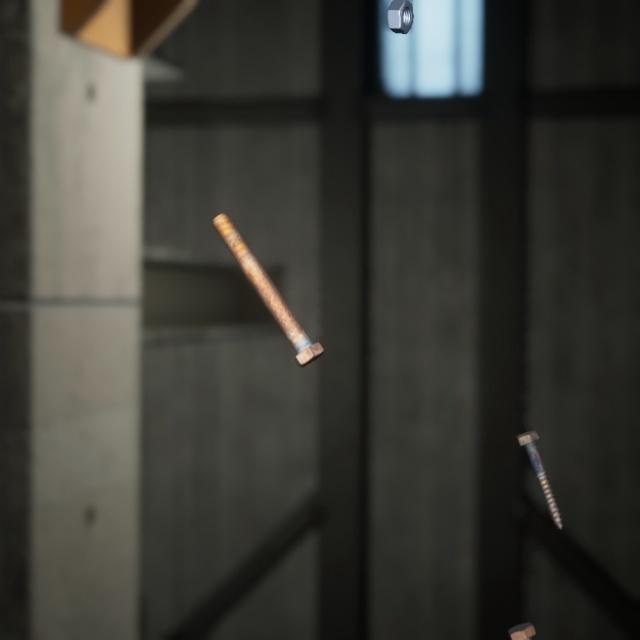bolt: (207, 191, 328, 354), (511, 404, 567, 512), (502, 593, 545, 640)
nut: (383, 0, 418, 31)
